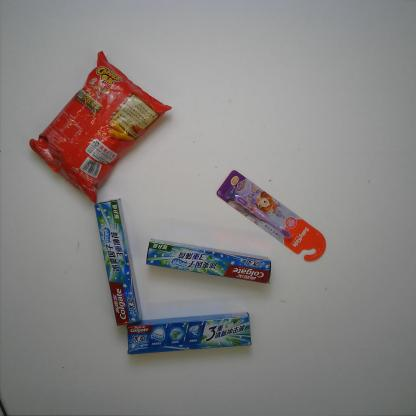Personal Hygiene: (215, 167, 329, 266), (92, 197, 142, 328), (145, 238, 272, 286), (127, 311, 256, 358)
Puffed Food: (25, 49, 174, 205)
